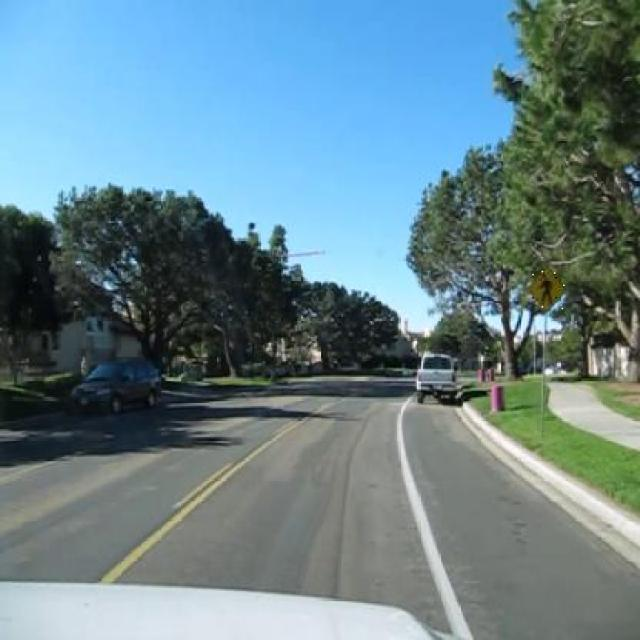pedestrianCrossing: (526, 264, 566, 314)
